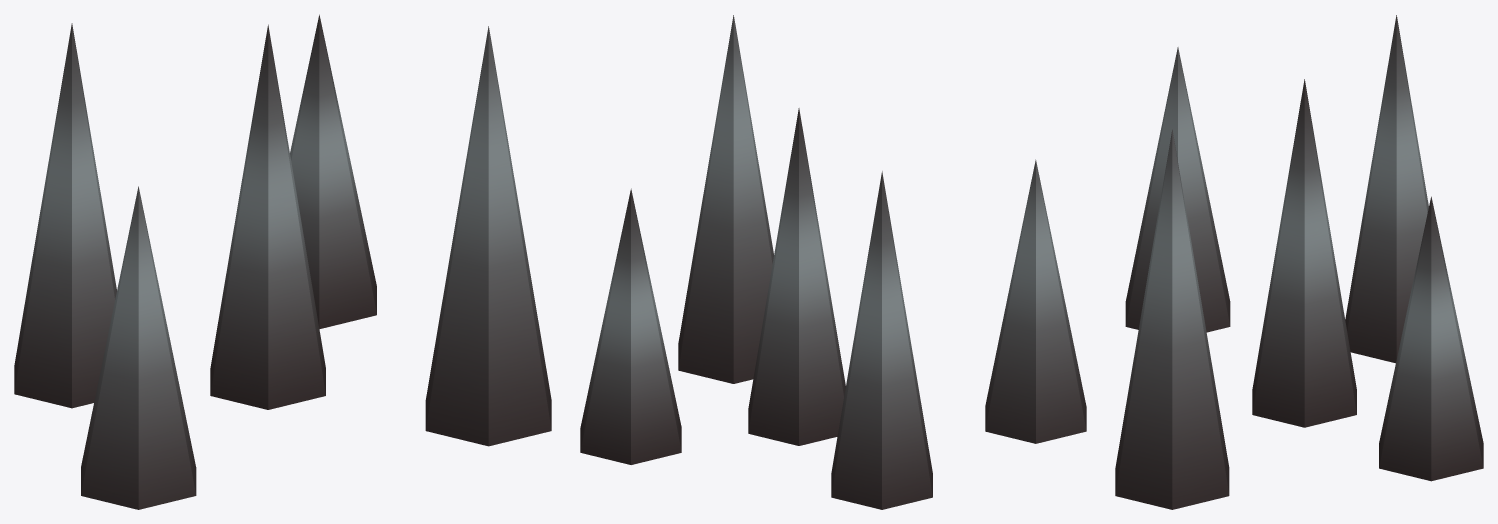
Rendered from SM_Lethal_Spikes_01.fbx.
3 views of the same model, side by side, from view 1: azimuth 30°, elevation 25°; view 2: azimuth 150°, elevation 25°; view 3: azimuth 270°, elevation 25° (orthographic). The views are drawn at different scales.
Parts seen in each view (by area): view 1: spikeTrap_PH; view 2: spikeTrap_PH; view 3: spikeTrap_PH.
Part boxes in pixels (left/top/right/bottom): spikeTrap_PH: left=14, top=14, right=551, bottom=509; spikeTrap_PH: left=580, top=15, right=1086, bottom=509; spikeTrap_PH: left=1115, top=15, right=1483, bottom=509.
Size of what is drawn, in the model's own units: 122 by 97.17 by 91.71.
